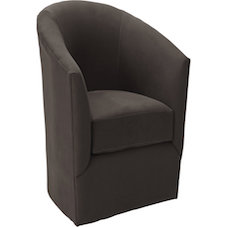chair: (30, 2, 184, 226)
